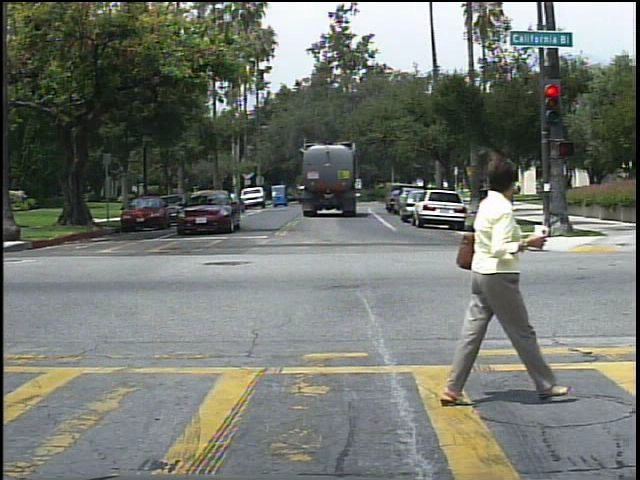person: (437, 138, 557, 411), (513, 180, 526, 199)
